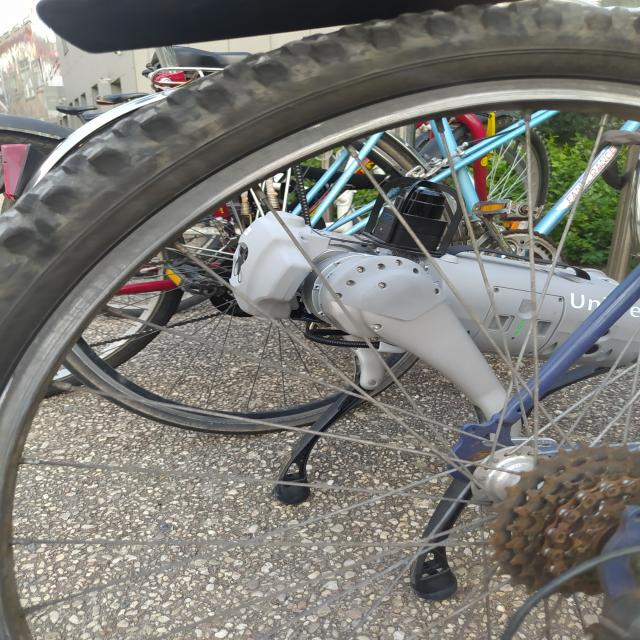unitree-go1-robot: (214, 199, 640, 596)
